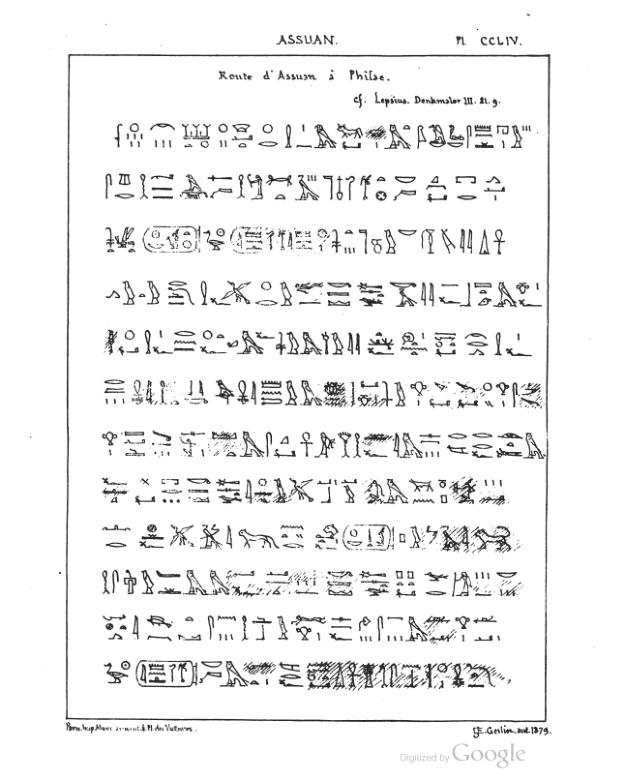circle: (133, 658, 202, 690), (140, 222, 202, 256), (341, 522, 399, 553)
